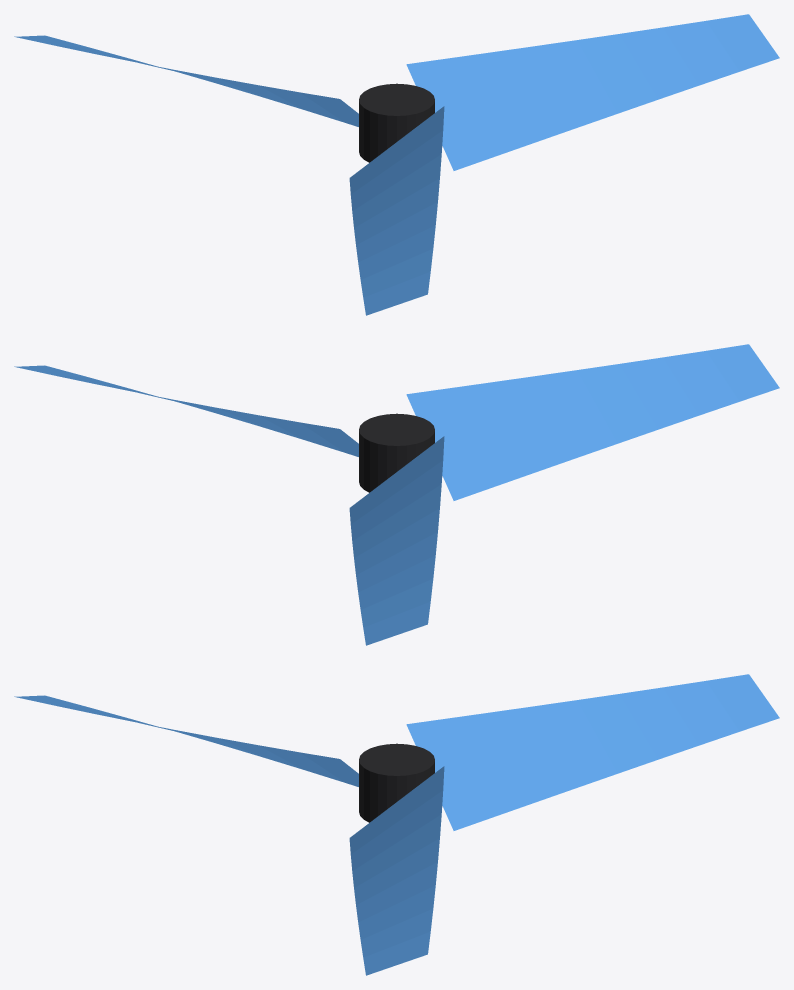
File: Prop_3BladeHighPitch.glb
3 renders of one model, top to bottom at view 1: azimuth 30°, elevation 25°; view 2: azimuth 150°, elevation 25°; view 3: azimuth 270°, elevation 25°, orthographic.
Visible parts, largest first — view 1: Blade0.002, Blade2.001, Hub.002, Blade1.002; view 2: Blade2.001, Blade1.002, Hub.002, Blade0.002; view 3: Blade1.002, Blade0.002, Hub.002, Blade2.001.
Part boxes in pixels (left/top/right/bottom): Blade0.002: left=406, top=14, right=779, bottom=170; Blade2.001: left=349, top=106, right=444, bottom=315; Hub.002: left=359, top=83, right=434, bottom=162; Blade1.002: left=14, top=35, right=358, bottom=126; Blade2.001: left=406, top=344, right=779, bottom=500; Blade1.002: left=349, top=436, right=444, bottom=645; Hub.002: left=359, top=413, right=434, bottom=492; Blade0.002: left=14, top=365, right=358, bottom=456; Blade1.002: left=406, top=674, right=779, bottom=830; Blade0.002: left=349, top=766, right=444, bottom=975; Hub.002: left=359, top=743, right=434, bottom=822; Blade2.001: left=14, top=695, right=358, bottom=786.
Bounding box in the file's own units: 0.1391 × 0.0167 × 0.1606.
